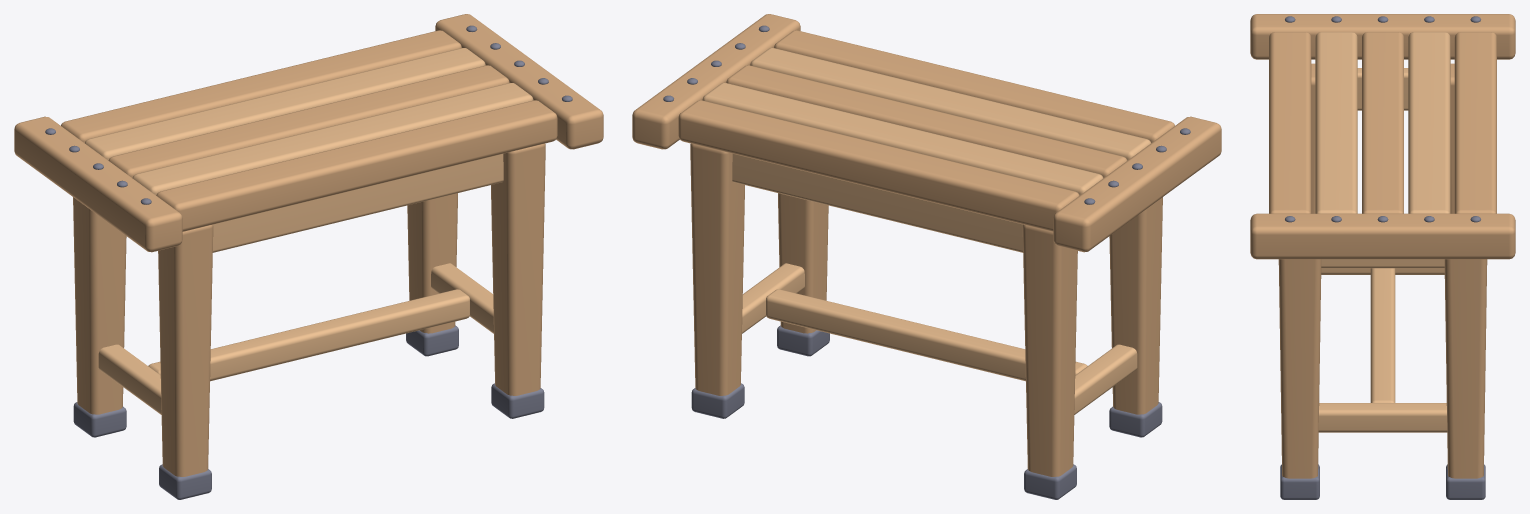
The model's file is table2.glb.
3 renders of one model, left to right at view 1: azimuth 30°, elevation 25°; view 2: azimuth 150°, elevation 25°; view 3: azimuth 270°, elevation 25°, orthographic. The views are drawn at different scales.
Parts seen in each view (by area): view 1: plank0, leg-1-1, leg1-1, cleat-1, plank2, plank4, plank1, plank3, leg-11, stretch_mid, apron_l-1, cleat1 (+7 smaller); view 2: plank4, leg-11, leg11, cleat-1, plank2, plank0, plank1, plank3, leg-1-1, stretch_mid, apron_l1, cleat1 (+7 smaller); view 3: cleat1, leg1-1, leg11, plank1, plank3, plank0, plank4, plank2, cleat-1, stretch_s1, stretch_mid, apron_s1 (+6 smaller).
Part boxes in pixels (box(x1,y1,x2,y2)): plank0: box(156, 100, 557, 231); leg-1-1: box(158, 224, 213, 476); leg1-1: box(491, 143, 545, 395); cleat-1: box(14, 116, 182, 252); plank2: box(108, 65, 509, 177); plank4: box(61, 30, 461, 142); plank1: box(132, 83, 533, 195); plank3: box(85, 48, 485, 160); leg-11: box(73, 197, 126, 414); stretch_mid: box(148, 289, 469, 381); apron_l-1: box(213, 154, 503, 252); cleat1: box(435, 14, 603, 149); plank4: box(678, 100, 1079, 231); leg-11: box(1022, 224, 1077, 476); leg11: box(690, 143, 744, 395); cleat-1: box(1053, 116, 1221, 252); plank2: box(726, 65, 1127, 177); plank0: box(774, 30, 1174, 142); plank1: box(750, 48, 1150, 160); plank3: box(702, 83, 1103, 195); leg-1-1: box(1109, 197, 1162, 414); stretch_mid: box(766, 289, 1087, 381); apron_l1: box(732, 154, 1022, 252); cleat1: box(632, 14, 800, 149); cleat1: box(1250, 213, 1515, 259); leg1-1: box(1278, 259, 1321, 478); leg11: box(1444, 259, 1487, 478); plank1: box(1315, 32, 1357, 213); plank3: box(1408, 32, 1450, 213); plank0: box(1269, 32, 1311, 213); plank4: box(1454, 32, 1496, 213); plank2: box(1362, 32, 1403, 213); cleat-1: box(1250, 14, 1515, 59); stretch_s1: box(1318, 403, 1447, 432); stretch_mid: box(1370, 268, 1395, 402); apron_s1: box(1321, 259, 1444, 268).
Size of the model in its own units: 1.24 by 0.7911 by 0.64.
